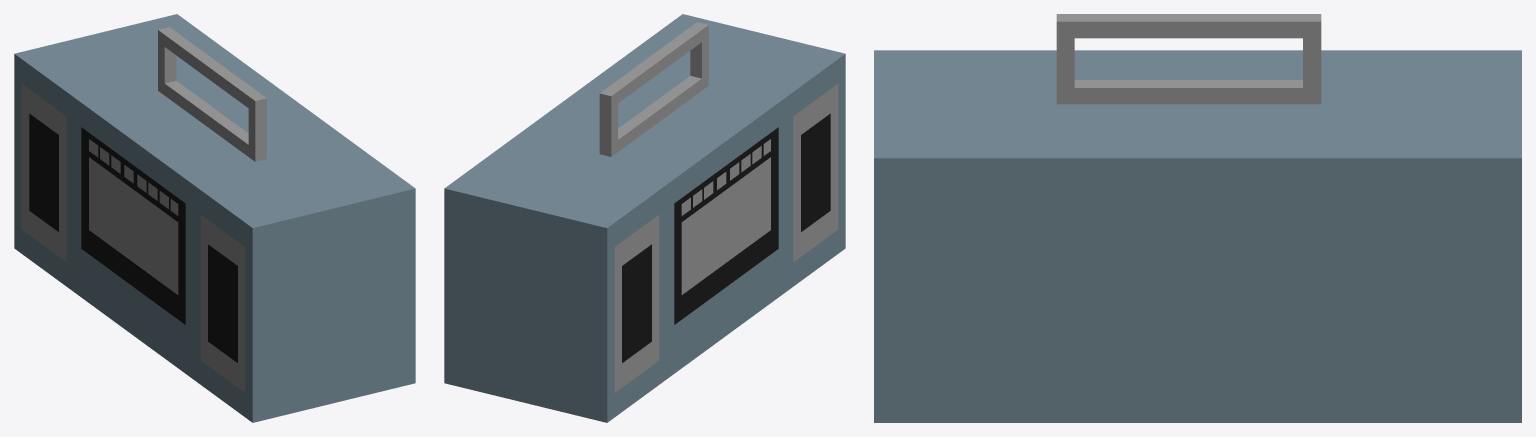
Rendered from boombox-by-seventy4-6sOTxnRvFCu.glb.
3 renders of one model, left to right at view 1: azimuth 30°, elevation 25°; view 2: azimuth 150°, elevation 25°; view 3: azimuth 270°, elevation 25°, orthographic. The views are drawn at different scales.
Visible parts, largest first — view 1: group1135122829, group2115093470, group1544891977, group1123766576, group82169387; view 2: group1135122829, group2115093470, group1544891977, group82169387, group1123766576; view 3: group1135122829, group2115093470, group1544891977, group82169387, group1123766576.
Boxes of the visible parts, left/top/right/bottom form: group1135122829: left=14, top=14, right=415, bottom=422; group2115093470: left=158, top=27, right=266, bottom=112; group1544891977: left=164, top=80, right=266, bottom=161; group1123766576: left=248, top=97, right=266, bottom=161; group82169387: left=158, top=30, right=176, bottom=95; group1135122829: left=444, top=14, right=845, bottom=422; group2115093470: left=599, top=22, right=708, bottom=107; group1544891977: left=618, top=76, right=701, bottom=151; group82169387: left=599, top=92, right=617, bottom=156; group1123766576: left=690, top=25, right=708, bottom=90; group1135122829: left=874, top=50, right=1521, bottom=422; group2115093470: left=1056, top=14, right=1321, bottom=38; group1544891977: left=1056, top=80, right=1302, bottom=104; group82169387: left=1303, top=21, right=1321, bottom=104; group1123766576: left=1056, top=21, right=1074, bottom=87.
Bounding box in the file's own units: 0.28 × 0.42 × 0.71.
